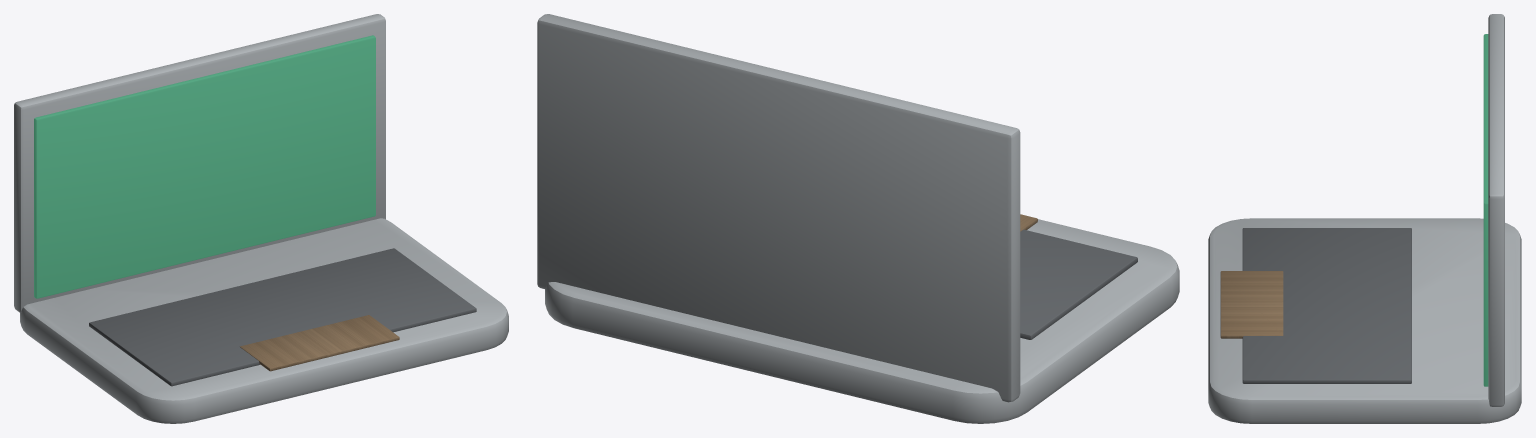
Rendered from laptop_premium.glb.
3 views of the same model, side by side, from view 1: azimuth 30°, elevation 25°; view 2: azimuth 150°, elevation 25°; view 3: azimuth 270°, elevation 25° (orthographic). The views are drawn at different scales.
Parts seen in each view (by area): view 1: Laptop_Screen, Laptop_Base, Laptop_Keyboard, Laptop_ScreenBack, Laptop_Trackpad; view 2: Laptop_ScreenBack, Laptop_Base, Laptop_Keyboard; view 3: Laptop_Base, Laptop_Keyboard, Laptop_ScreenBack, Laptop_Trackpad, Laptop_Screen.
Boxes of the visible parts, bbox=[...] form: Laptop_Screen: bbox=[34, 35, 375, 298]; Laptop_Base: bbox=[20, 218, 508, 423]; Laptop_Keyboard: bbox=[89, 248, 476, 386]; Laptop_ScreenBack: bbox=[14, 14, 385, 312]; Laptop_Trackpad: bbox=[240, 315, 399, 371]; Laptop_ScreenBack: bbox=[537, 14, 1020, 402]; Laptop_Base: bbox=[545, 219, 1179, 423]; Laptop_Keyboard: bbox=[1020, 229, 1137, 339]; Laptop_Base: bbox=[1208, 218, 1521, 423]; Laptop_Keyboard: bbox=[1242, 228, 1411, 383]; Laptop_ScreenBack: bbox=[1488, 14, 1504, 406]; Laptop_Trackpad: bbox=[1220, 271, 1283, 338]; Laptop_Screen: bbox=[1483, 34, 1488, 386].
Size of what is drawn, in the model's own units: 0.3456 by 0.2029 by 0.25.
Materials: 4 (1 with a texture image).
